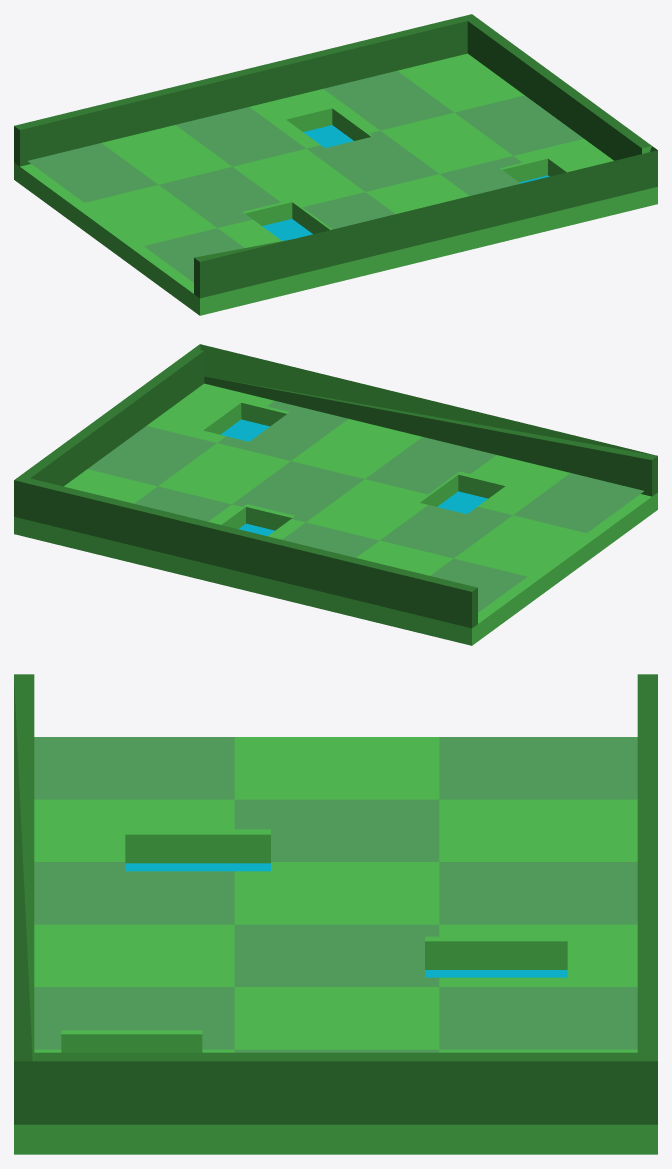
File: floor2.2.fbx
3 renders of one model, top to bottom at view 1: azimuth 30°, elevation 25°; view 2: azimuth 150°, elevation 25°; view 3: azimuth 270°, elevation 25°, orthographic. The views are drawn at different scales.
Visible parts, largest first — view 1: pCube15; view 2: pCube15; view 3: pCube15.
Part boxes in pixels (box(x1,y1,x2,y2)): pCube15: box(14, 14, 657, 315); pCube15: box(14, 344, 657, 645); pCube15: box(14, 674, 657, 1154).
Size of the model in its own units: 22.4 by 2.52 by 15.75.
